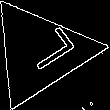L_SW: (7, 25, 73, 80)
